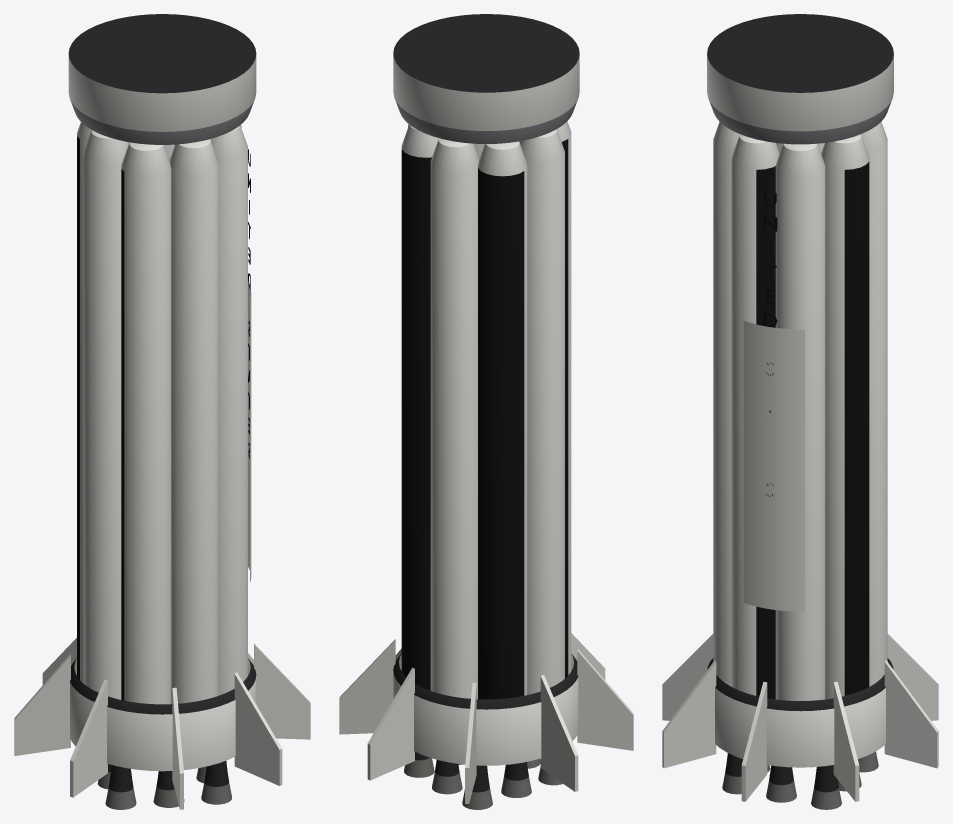
The model's file is saturn_ib_s1.glb.
The picture shows the model from 3 angles, left to right: view 1: azimuth 30°, elevation 25°; view 2: azimuth 150°, elevation 25°; view 3: azimuth 270°, elevation 25°; orthographic projection.
Parts seen in each view (by area): view 1: model; view 2: model; view 3: model.
Part boxes in pixels (x1,y1,x2,y2): model: [14, 14, 310, 809]; model: [339, 14, 633, 809]; model: [662, 14, 938, 809].
Size of the model in its own units: 9.76 by 28.2 by 9.76.
Materials: 1 (1 with a texture image).
